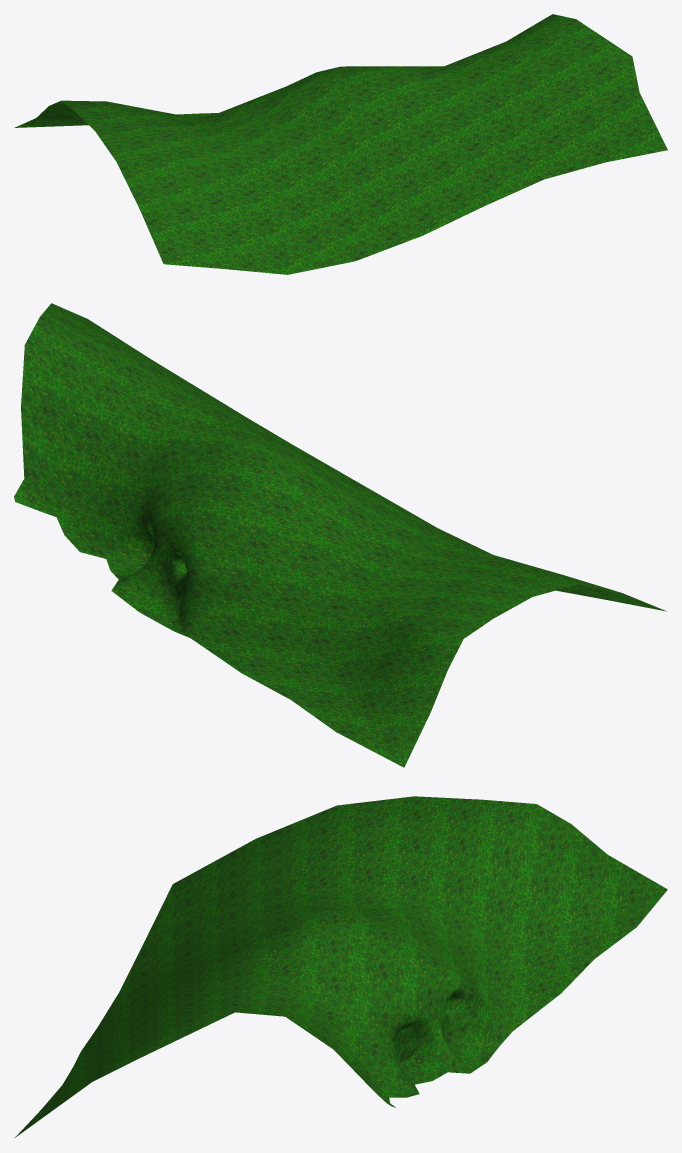
The model's file is HTOWN01_PS11.fbx.
3 views of the same model, one above another, from view 1: azimuth 30°, elevation 25°; view 2: azimuth 150°, elevation 25°; view 3: azimuth 270°, elevation 25° (orthographic). The views are drawn at different scales.
Parts seen in each view (by area): view 1: HTOWN01_PS11; view 2: HTOWN01_PS11; view 3: HTOWN01_PS11.
Boxes of the visible parts, x1=… form: HTOWN01_PS11: x1=14, y1=14, x2=667, y2=274; HTOWN01_PS11: x1=14, y1=303, x2=666, y2=767; HTOWN01_PS11: x1=15, y1=796, x2=667, y2=1137.
Bounding box in the file's own units: 359199 × 109779 × 305744.
Materials: 1 (1 with a texture image).
